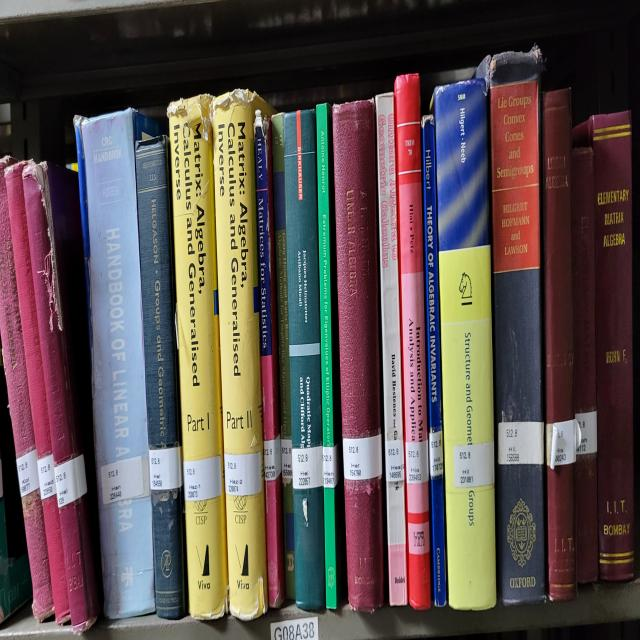Book: (81, 108, 158, 620), (22, 162, 100, 630), (482, 46, 545, 603), (434, 62, 496, 609), (168, 95, 229, 620), (212, 89, 272, 620), (5, 162, 70, 625), (572, 111, 634, 582), (332, 100, 384, 611), (0, 157, 54, 620), (135, 138, 185, 620), (284, 111, 325, 609), (542, 89, 581, 601), (395, 76, 431, 609), (375, 92, 408, 606), (254, 111, 285, 609), (316, 103, 344, 609), (571, 146, 599, 584), (422, 114, 446, 606), (271, 114, 295, 601)
Label: (101, 457, 144, 503), (498, 422, 544, 465), (342, 433, 382, 479), (454, 441, 494, 487), (54, 455, 88, 509), (184, 455, 222, 501), (224, 452, 262, 495), (550, 419, 581, 468), (149, 446, 182, 490), (292, 446, 324, 490), (16, 449, 39, 498), (405, 441, 429, 484), (576, 411, 598, 455), (385, 438, 404, 482), (38, 455, 56, 501), (264, 436, 281, 482), (429, 430, 444, 479), (322, 446, 339, 487), (281, 438, 292, 482)
